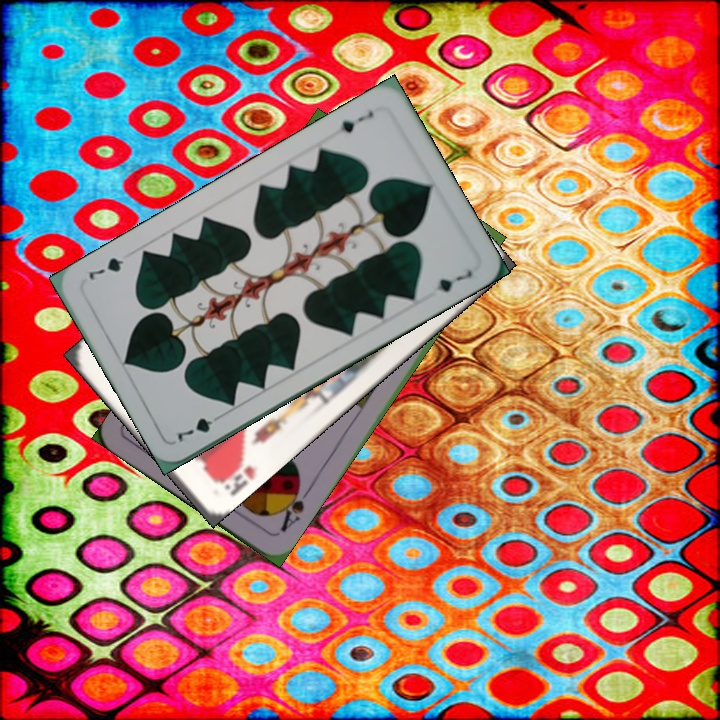G7: (173, 409, 227, 445), (336, 106, 376, 136)
HK: (212, 455, 259, 499)
SA: (273, 478, 314, 535)
